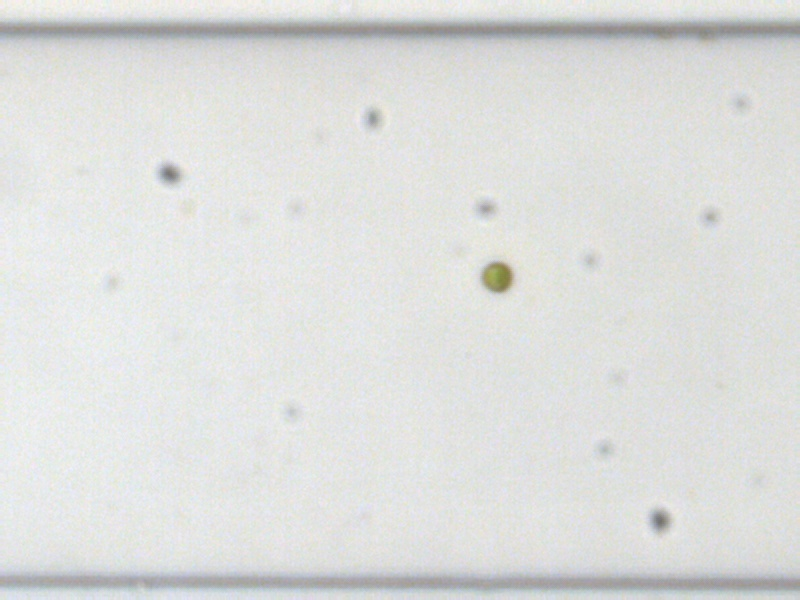Platymonas: (479, 259, 513, 291)
